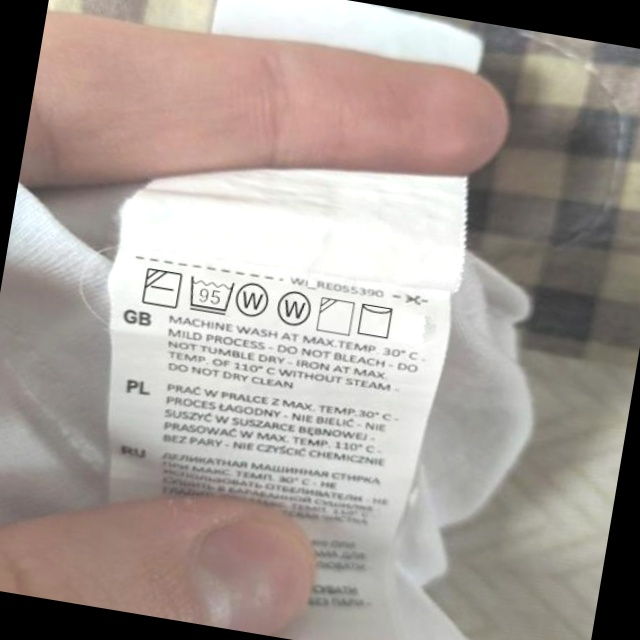95C: (184, 272, 237, 317)
dry_flat_in_shade: (139, 264, 184, 311)
line_dry: (354, 298, 399, 342)
shade_dry: (314, 294, 358, 338)
wet_clean: (273, 287, 315, 331), (234, 276, 275, 321)
